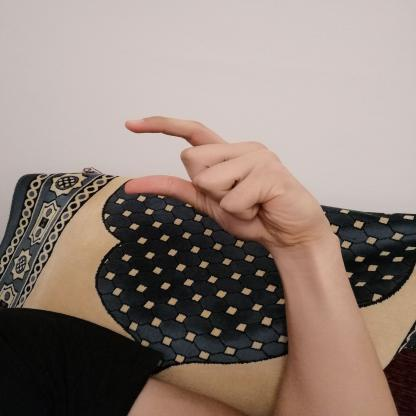DELL: (105, 110, 337, 258)
